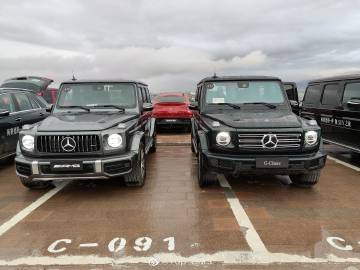other: (16, 75, 154, 188), (201, 75, 327, 191)
